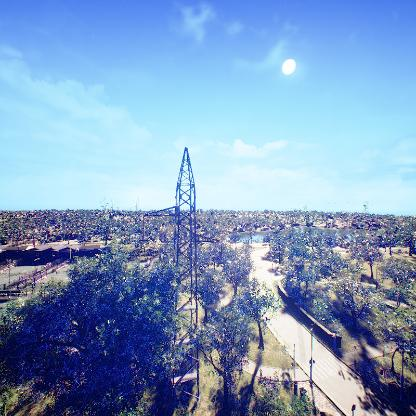tower: (161, 146, 202, 397)
